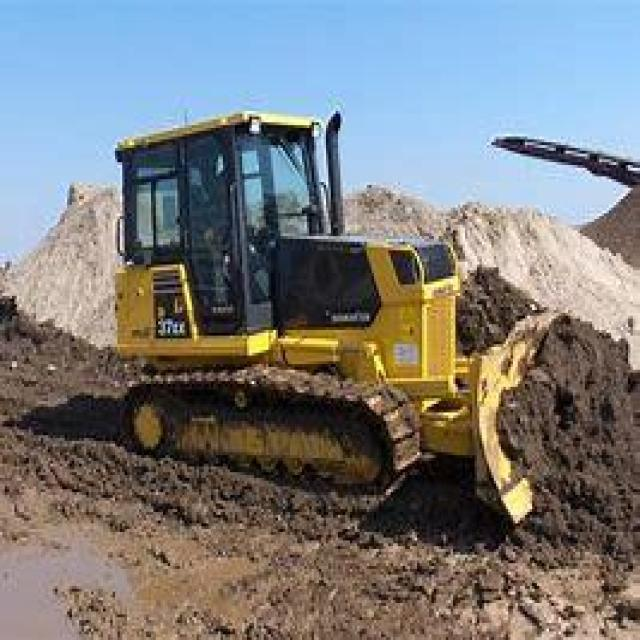buldozerpayloadergrader: (82, 97, 628, 566)
